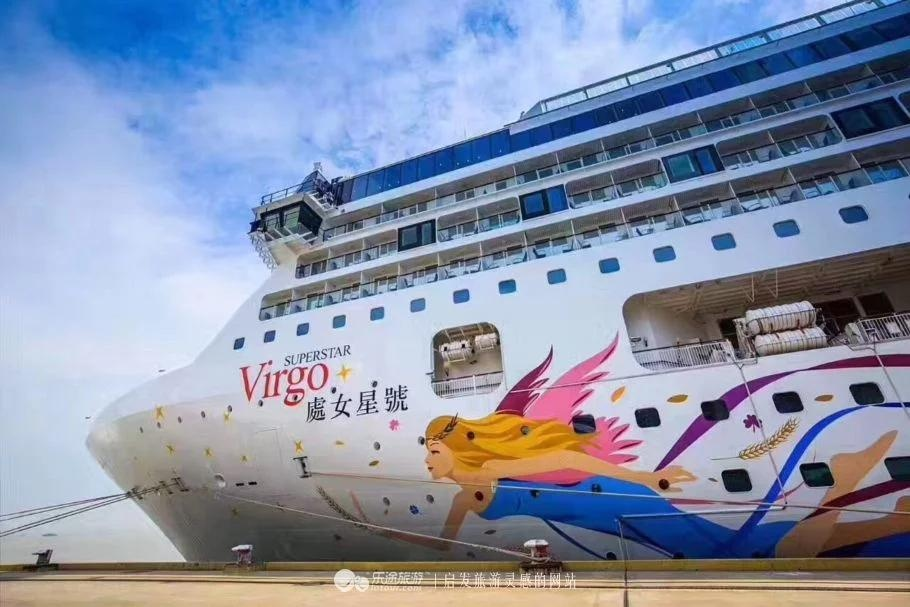youlun: (68, 1, 910, 553)
